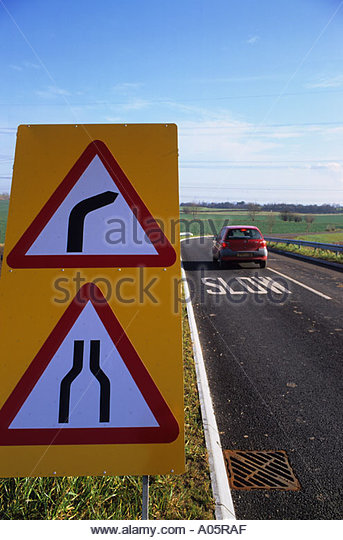Bend_to_right: (5, 139, 178, 270)
car: (211, 223, 271, 271)
